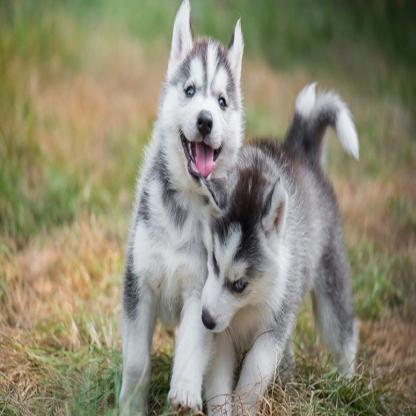dog: (203, 82, 366, 415), (117, 1, 243, 416)
